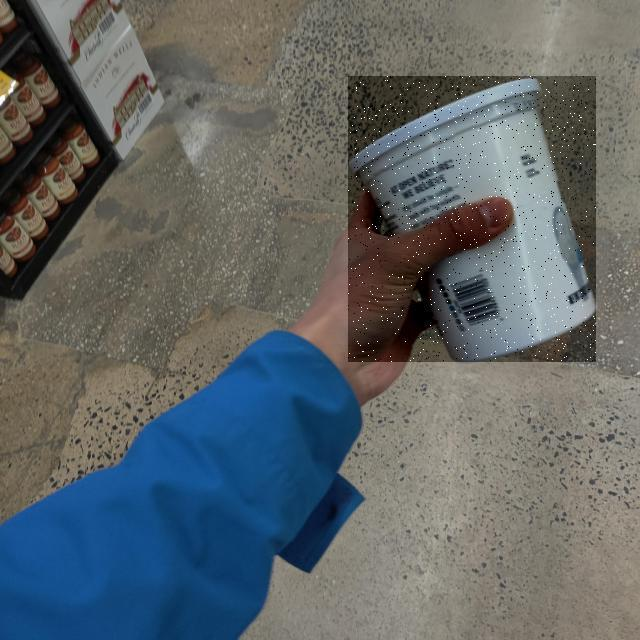Yoghurt: (348, 76, 596, 362)
